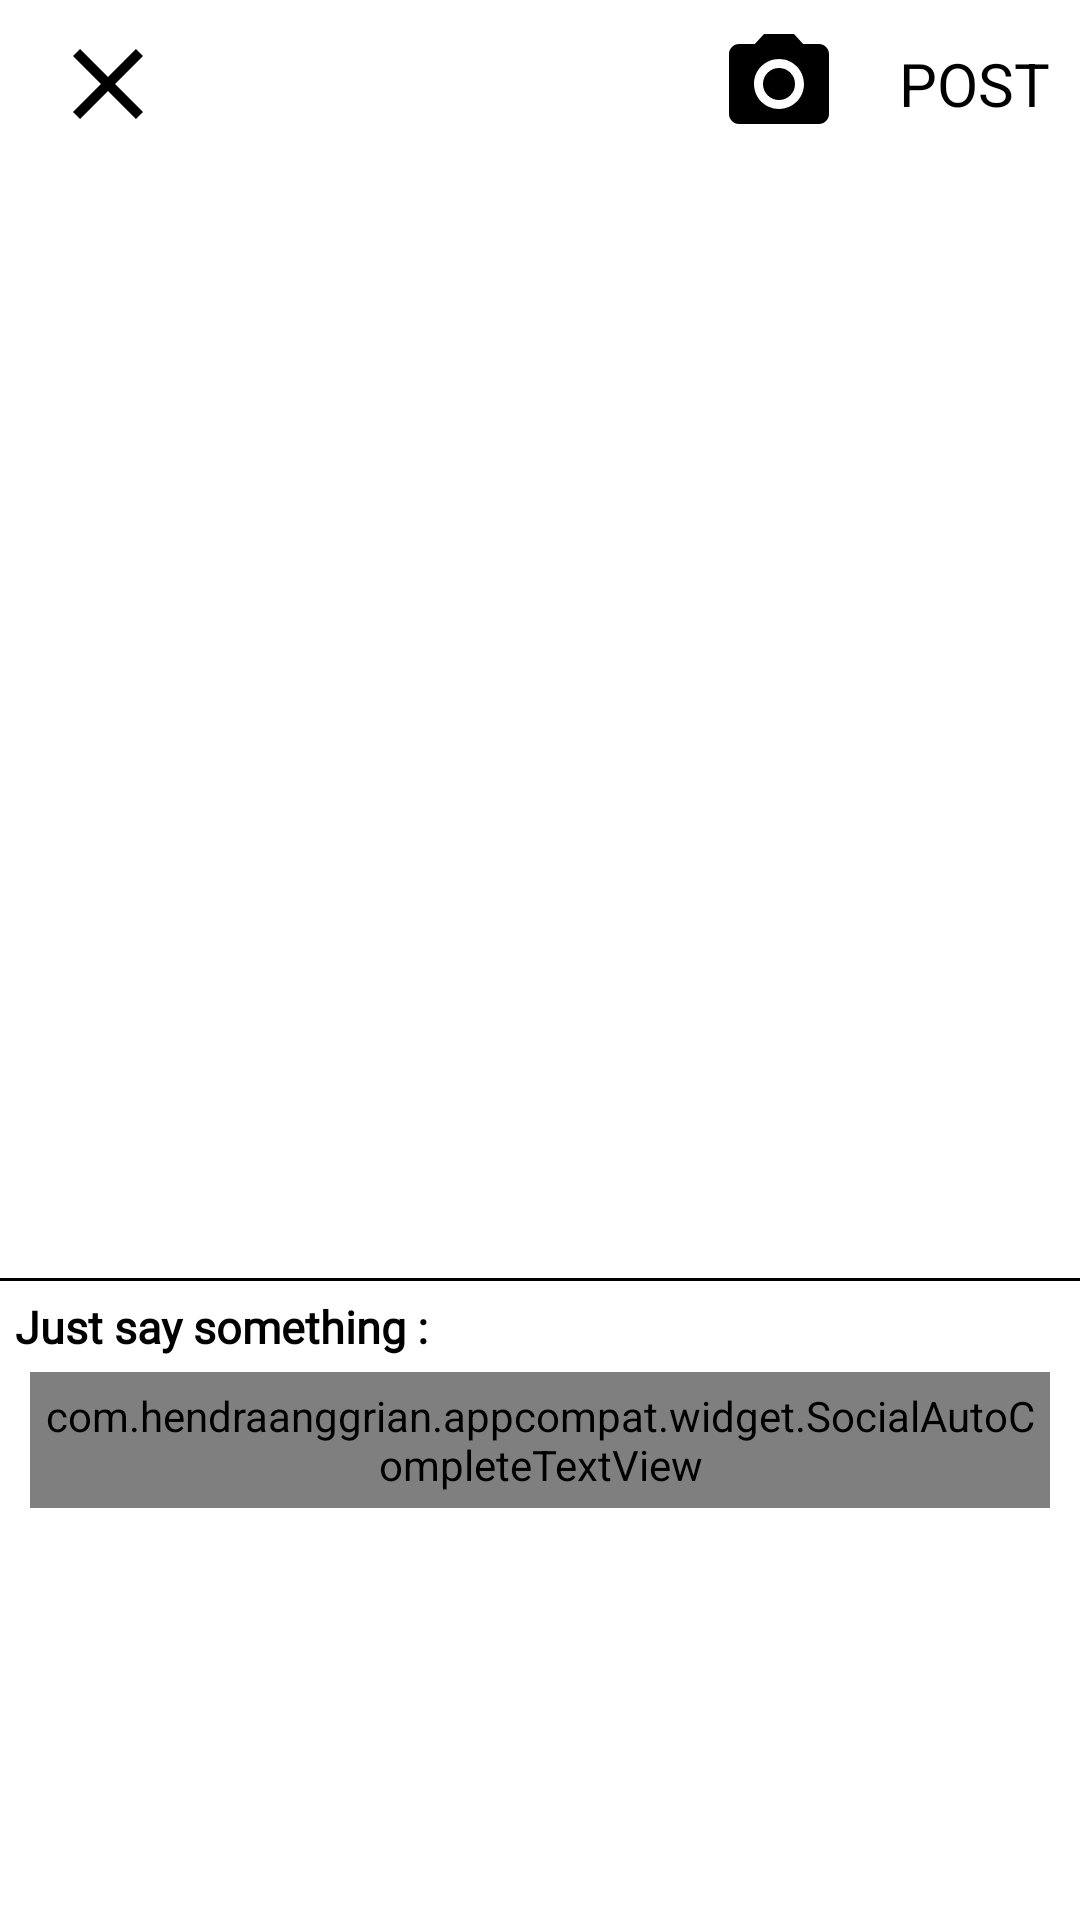

Icons on this 1080px x 1920px Android screen, each with its box as box=[x1, y1, x2, y2]:
close: box=[73, 49, 143, 119]
photograph: box=[729, 34, 829, 124]
